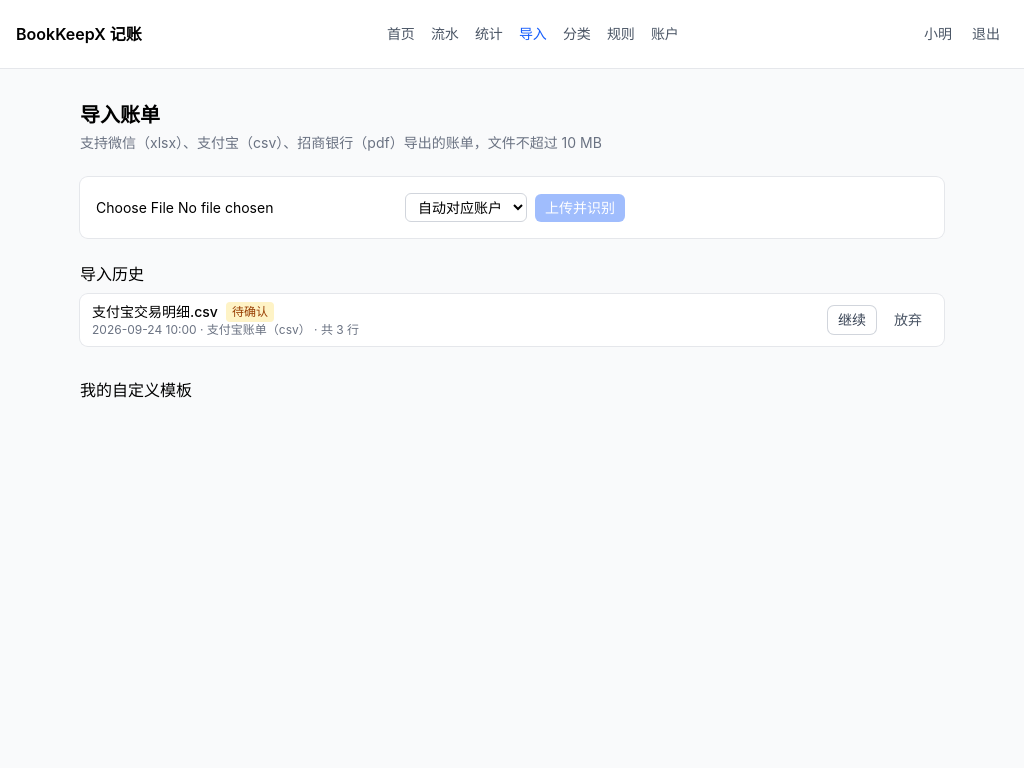
Scenario: 导入页 › 正向：历史中待确认的预览可以继续（读取带预览行的批次）
The image size is (1024, 768).
Click the button "继续" at (852, 320), box [828,306,876,334]
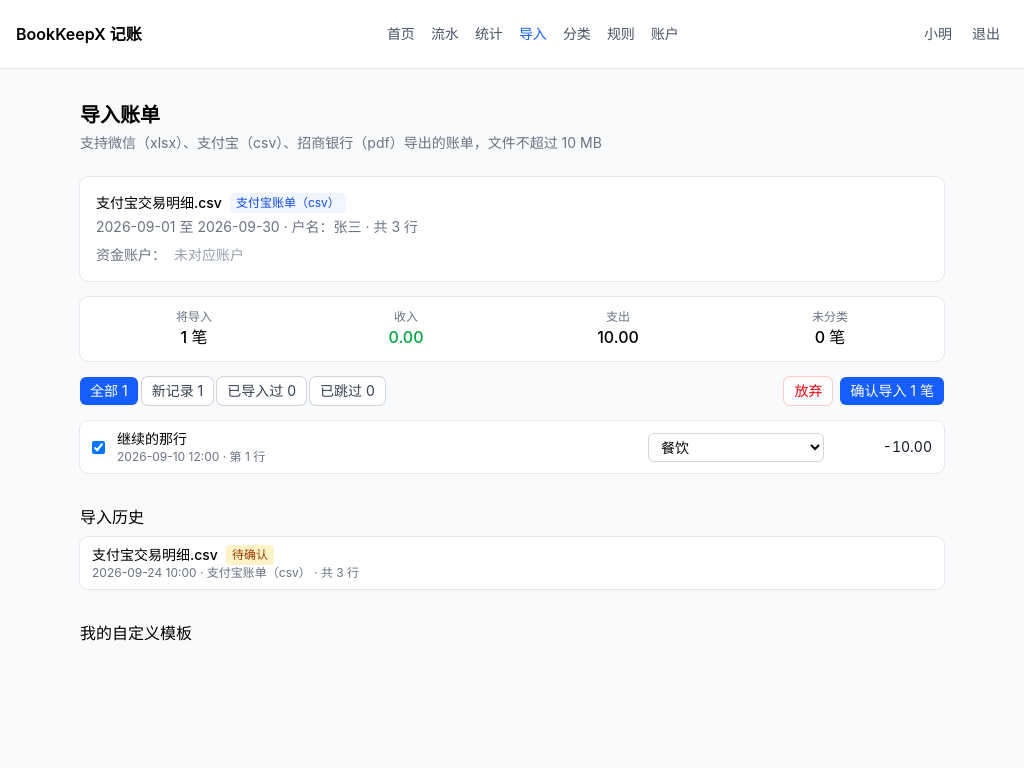
Expected: the text "继续的那行" is shown, [117,429,187,449]
